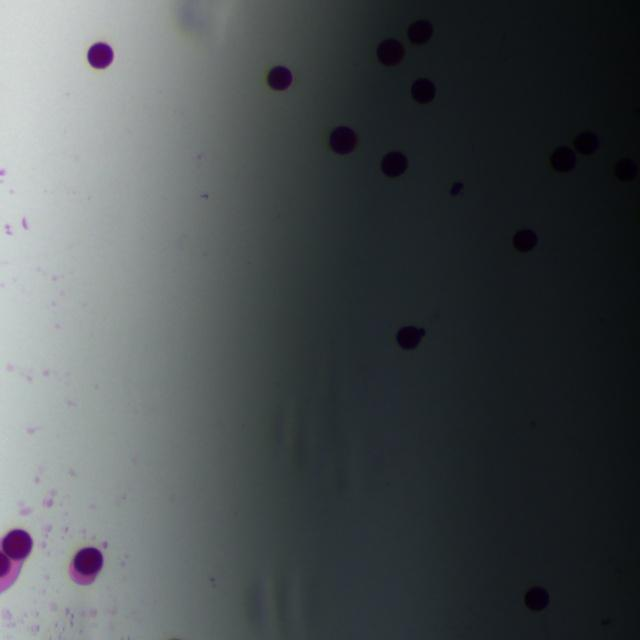viable: (2, 529, 31, 559), (74, 547, 102, 574), (377, 38, 404, 65), (381, 151, 407, 177), (330, 127, 356, 153), (88, 42, 113, 68), (396, 326, 424, 349), (267, 65, 292, 90), (551, 147, 576, 171), (411, 78, 435, 103), (407, 20, 432, 43), (573, 131, 598, 154), (524, 587, 548, 610), (513, 229, 537, 251), (615, 159, 637, 180), (0, 553, 10, 576)
